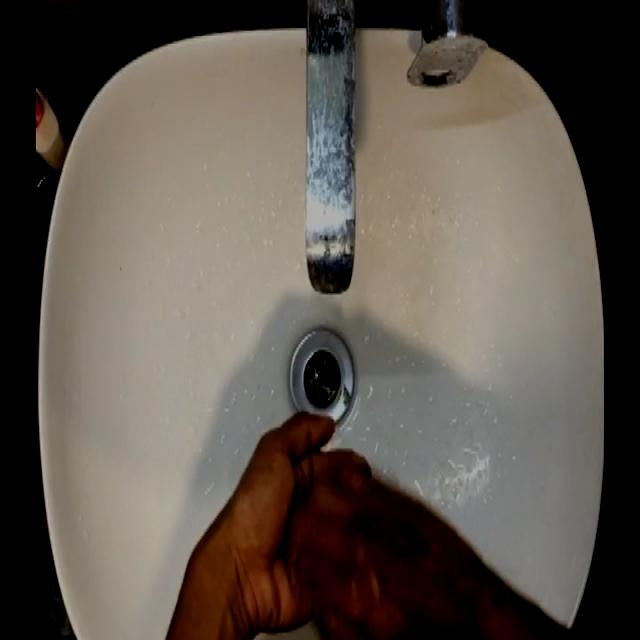step_4: (227, 417, 458, 633)
